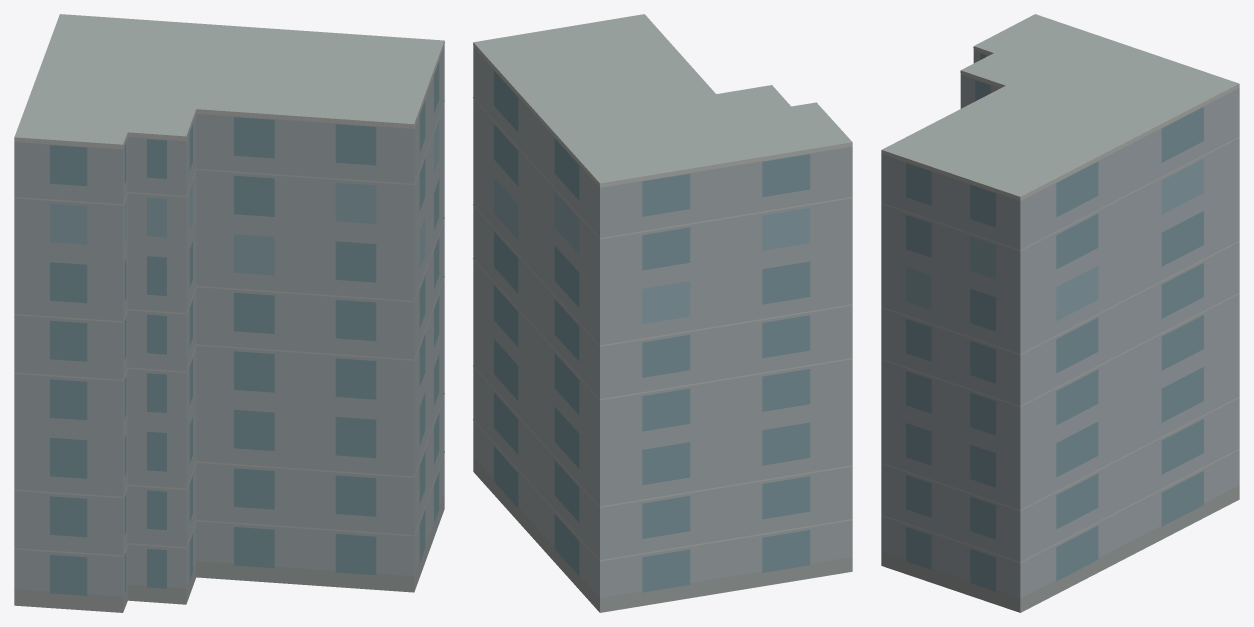
The model's file is survey-upis-32622513.glb.
The picture shows the model from 3 angles, left to right: view 1: azimuth 30°, elevation 25°; view 2: azimuth 150°, elevation 25°; view 3: azimuth 270°, elevation 25°; orthographic projection. The views are drawn at different scales.
Visible parts, largest first — view 1: survey-upis-32622513.tmp; view 2: survey-upis-32622513.tmp; view 3: survey-upis-32622513.tmp.
Boxes of the visible parts, bbox=[...] form: survey-upis-32622513.tmp: bbox=[14, 14, 444, 612]; survey-upis-32622513.tmp: bbox=[473, 14, 852, 612]; survey-upis-32622513.tmp: bbox=[881, 14, 1239, 612].
Bounding box in the file's own units: 23.03 × 24.4 × 19.05.
